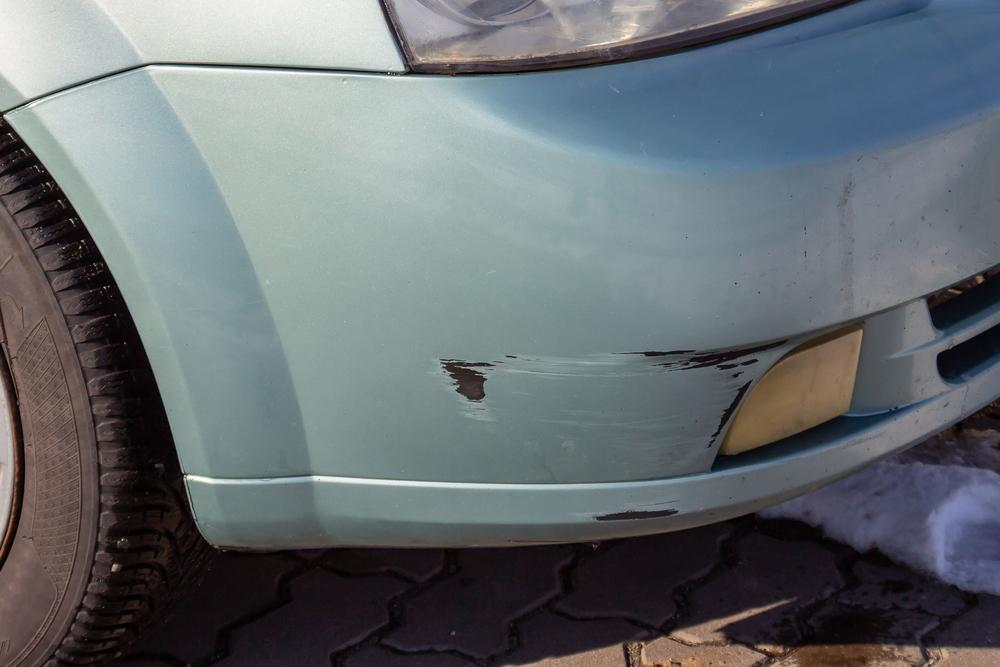scratch: (431, 335, 783, 458), (592, 507, 687, 524)
